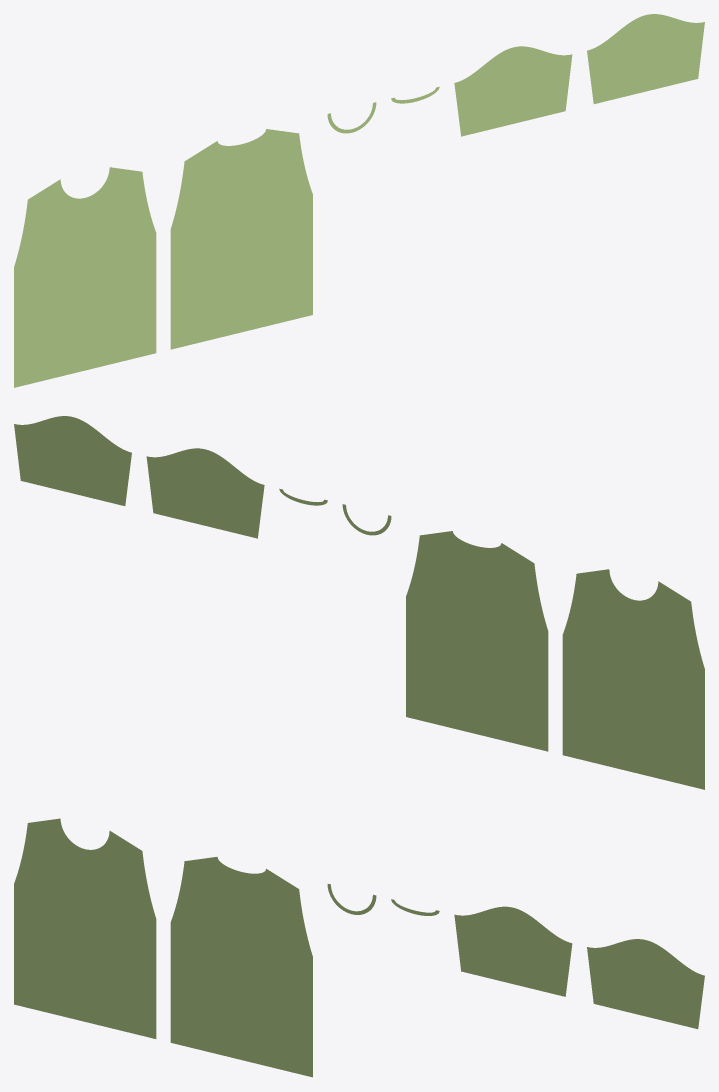
Rendered from camiseta-deportiva-malla-regular-talla-S.glb.
The picture shows the model from 3 angles, top to bottom: view 1: azimuth 30°, elevation 25°; view 2: azimuth 150°, elevation 25°; view 3: azimuth 330°, elevation 25°; orthographic projection.
Parts seen in each view (by area): view 1: patron-espalda, patron-delantero, patron-manga-izq, patron-manga-der; view 2: patron-espalda, patron-delantero, patron-manga-izq, patron-manga-der; view 3: patron-espalda, patron-delantero, patron-manga-izq, patron-manga-der.
Boxes of the visible parts, bbox=[...] form: patron-espalda: bbox=[170, 129, 312, 349]; patron-delantero: bbox=[14, 167, 156, 387]; patron-manga-izq: bbox=[454, 46, 572, 136]; patron-manga-der: bbox=[587, 14, 704, 103]; patron-espalda: bbox=[406, 531, 548, 751]; patron-delantero: bbox=[562, 569, 704, 789]; patron-manga-izq: bbox=[146, 448, 264, 538]; patron-manga-der: bbox=[14, 416, 131, 505]; patron-espalda: bbox=[170, 857, 312, 1077]; patron-delantero: bbox=[14, 818, 156, 1038]; patron-manga-izq: bbox=[454, 906, 572, 996]; patron-manga-der: bbox=[587, 939, 704, 1029].
Bounding box in the file's own units: 2.38 × 0.72 × 0.
